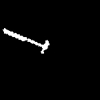half_double_crochet: (3, 28, 48, 52)
